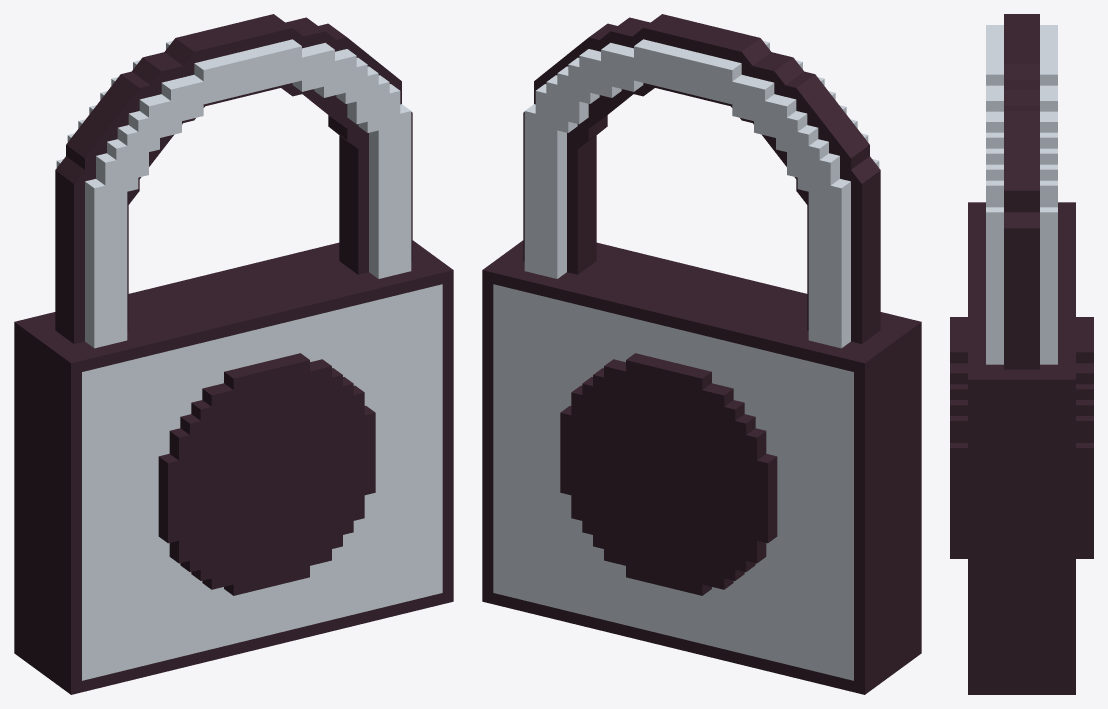
File: Circle Padlock.fbx
The picture shows the model from 3 angles, left to right: view 1: azimuth 30°, elevation 25°; view 2: azimuth 150°, elevation 25°; view 3: azimuth 270°, elevation 25°; orthographic projection. The views are drawn at different scales.
Visible parts, largest first — view 1: generated; view 2: generated; view 3: generated.
Boxes of the visible parts, x1,y1,x2,y2 form: generated: [14, 14, 453, 694]; generated: [482, 14, 921, 694]; generated: [950, 14, 1093, 694].
Bounding box in the file's own units: 1400 × 2080 × 480.
